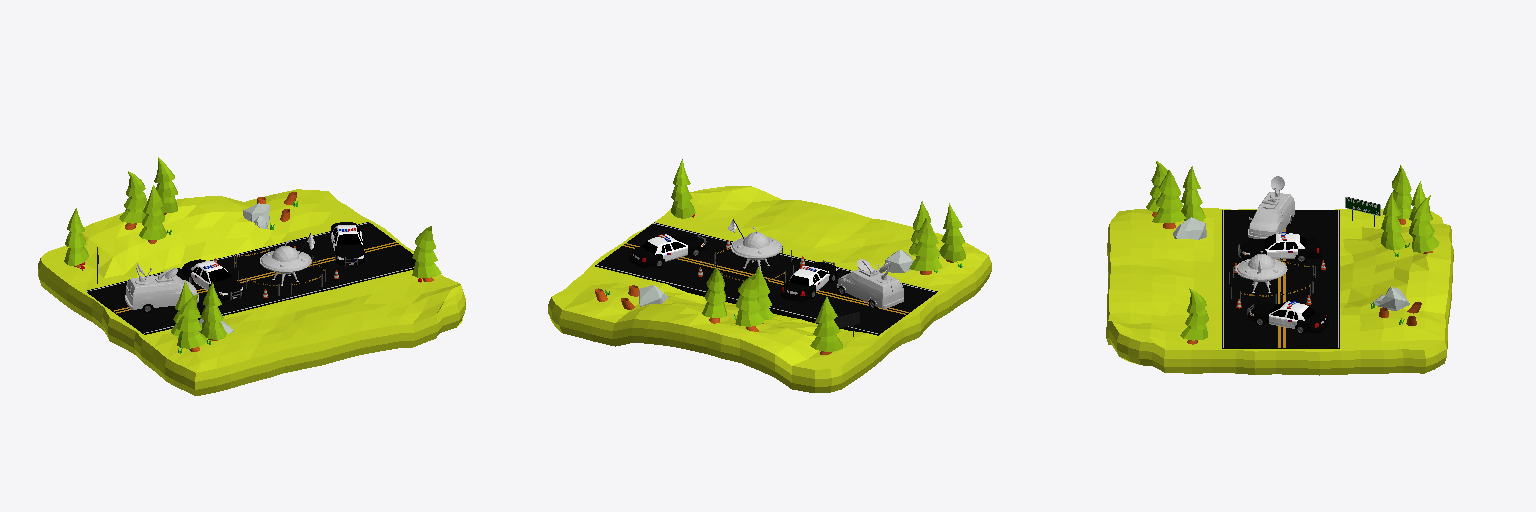
Rendered from Scnecp.obj.
The picture shows the model from 3 angles: view 1: azimuth 30°, elevation 25°; view 2: azimuth 150°, elevation 25°; view 3: azimuth 270°, elevation 25°; orthographic projection.
Parts seen in each view (by area): view 1: Plane.001_M16_0, Plane.004_M14_0, Cube_M1_0, Circle.004_M17_0, Circle.011_M17_0, Circle.006_M17_0, Circle.005_M17_0, Circle.007_M17_0, Circle.009_M17_0, Circle.008_M17_0, Cube.006_M5_0, Cube.004_M5_0; view 2: Plane.001_M16_0, Plane.004_M14_0, Cube_M1_0, Circle.009_M17_0, Circle.002_M17_0, Circle.007_M17_0, Circle.004_M17_0, Circle.011_M17_0, Circle.008_M17_0, Cube.004_M5_0, Cube.006_M5_0, Cube_M3_0 (+1 smaller); view 3: Plane.001_M16_0, Plane.004_M14_0, Circle.005_M17_0, Circle.008_M17_0, Circle.011_M17_0, Cube_M1_0, Circle.006_M17_0, Circle.002_M17_0, Cube.004_M5_0, Circle.009_M17_0, Cube.006_M5_0, Icosphere.002_M3_0.
Boxes of the visible parts, x1=… form: Plane.001_M16_0: x1=38, y1=189, x2=465, y2=395; Plane.004_M14_0: x1=87, y1=222, x2=415, y2=334; Cube_M1_0: x1=125, y1=263, x2=198, y2=309; Circle.004_M17_0: x1=176, y1=294, x2=206, y2=348; Circle.011_M17_0: x1=412, y1=226, x2=441, y2=277; Circle.006_M17_0: x1=139, y1=185, x2=166, y2=239; Circle.005_M17_0: x1=201, y1=282, x2=226, y2=339; Circle.007_M17_0: x1=119, y1=171, x2=146, y2=223; Circle.009_M17_0: x1=64, y1=208, x2=88, y2=265; Circle.008_M17_0: x1=154, y1=157, x2=177, y2=212; Cube.006_M5_0: x1=182, y1=259, x2=243, y2=300; Cube.004_M5_0: x1=330, y1=222, x2=364, y2=264; Plane.001_M16_0: x1=548, y1=186, x2=991, y2=392; Plane.004_M14_0: x1=595, y1=222, x2=937, y2=335; Cube_M1_0: x1=837, y1=260, x2=903, y2=308; Circle.009_M17_0: x1=810, y1=297, x2=842, y2=351; Circle.002_M17_0: x1=909, y1=217, x2=942, y2=270; Circle.007_M17_0: x1=735, y1=274, x2=764, y2=326; Circle.004_M17_0: x1=939, y1=203, x2=965, y2=261; Circle.011_M17_0: x1=671, y1=159, x2=695, y2=218; Circle.008_M17_0: x1=702, y1=267, x2=726, y2=317; Cube.004_M5_0: x1=629, y1=235, x2=705, y2=267; Cube.006_M5_0: x1=781, y1=262, x2=837, y2=301; Cube_M3_0: x1=838, y1=259, x2=903, y2=305; Plane.001_M16_0: x1=1106, y1=208, x2=1453, y2=375; Plane.004_M14_0: x1=1222, y1=210, x2=1339, y2=348; Circle.005_M17_0: x1=1152, y1=170, x2=1185, y2=222; Circle.008_M17_0: x1=1411, y1=195, x2=1439, y2=252; Circle.011_M17_0: x1=1180, y1=288, x2=1208, y2=340; Cube_M1_0: x1=1248, y1=176, x2=1294, y2=238; Circle.006_M17_0: x1=1381, y1=192, x2=1405, y2=250; Circle.002_M17_0: x1=1181, y1=166, x2=1205, y2=221; Cube.004_M5_0: x1=1248, y1=303, x2=1328, y2=332; Circle.009_M17_0: x1=1392, y1=165, x2=1411, y2=218; Cube.006_M5_0: x1=1240, y1=236, x2=1321, y2=259; Icosphere.002_M3_0: x1=1173, y1=217, x2=1206, y2=239.
Size of the model in its own units: 204 by 63.83 by 204.